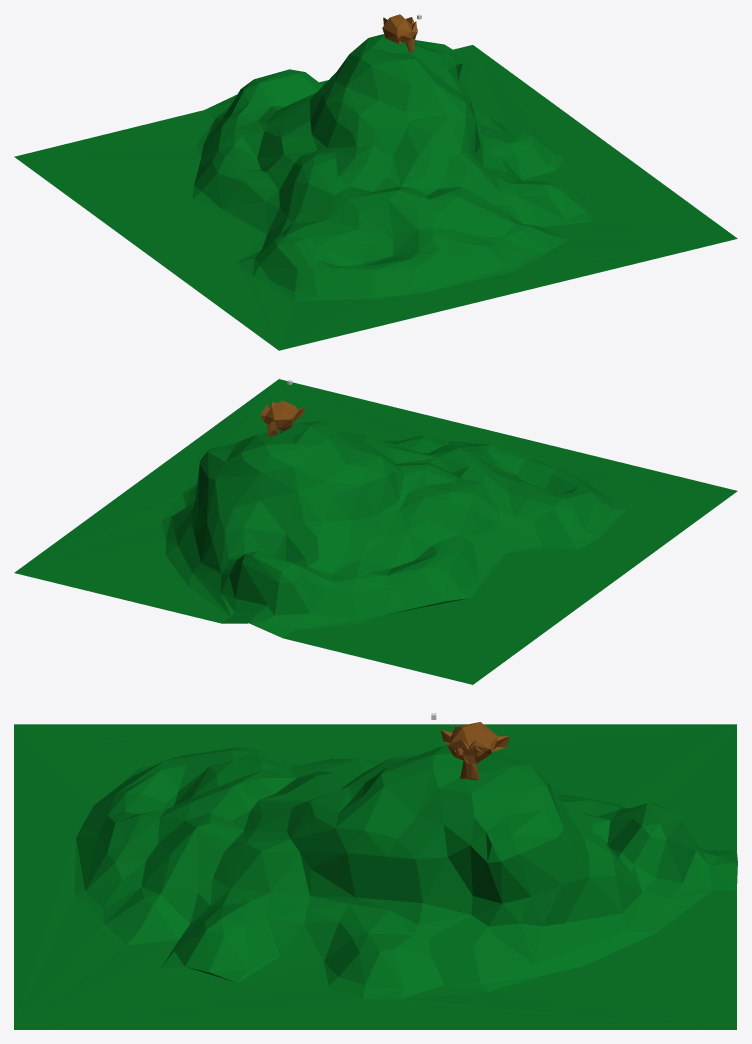
File: montana_5.glb
3 renders of one model, top to bottom at view 1: azimuth 30°, elevation 25°; view 2: azimuth 150°, elevation 25°; view 3: azimuth 270°, elevation 25°, orthographic. The views are drawn at different scales.
Visible parts, largest first — view 1: Plane, Suzanne; view 2: Plane, Suzanne; view 3: Plane, Suzanne.
Boxes of the visible parts, <box> form: Plane: <box>14,34,737,350</box>; Suzanne: <box>382,14,417,52</box>; Plane: <box>14,379,737,684</box>; Suzanne: <box>260,400,305,436</box>; Plane: <box>14,724,737,1029</box>; Suzanne: <box>441,722,509,780</box>.
Size of what is drawn, in the model's own units: 129 by 40.5 by 129.
